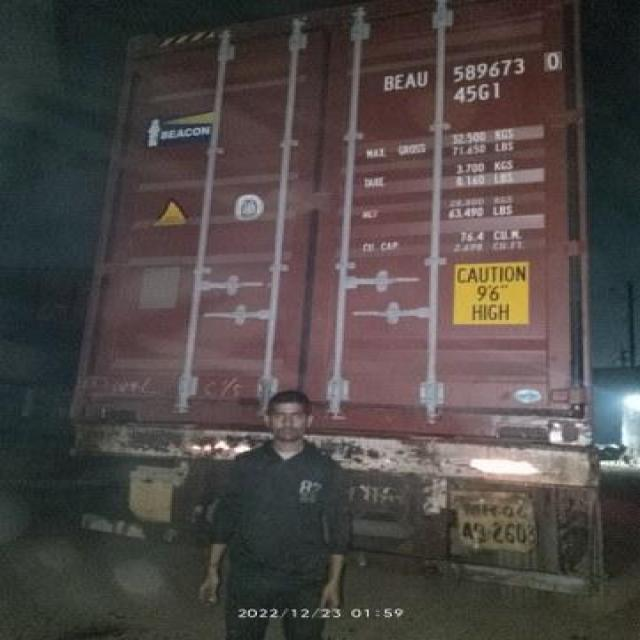container_number_h: (353, 31, 580, 114)
